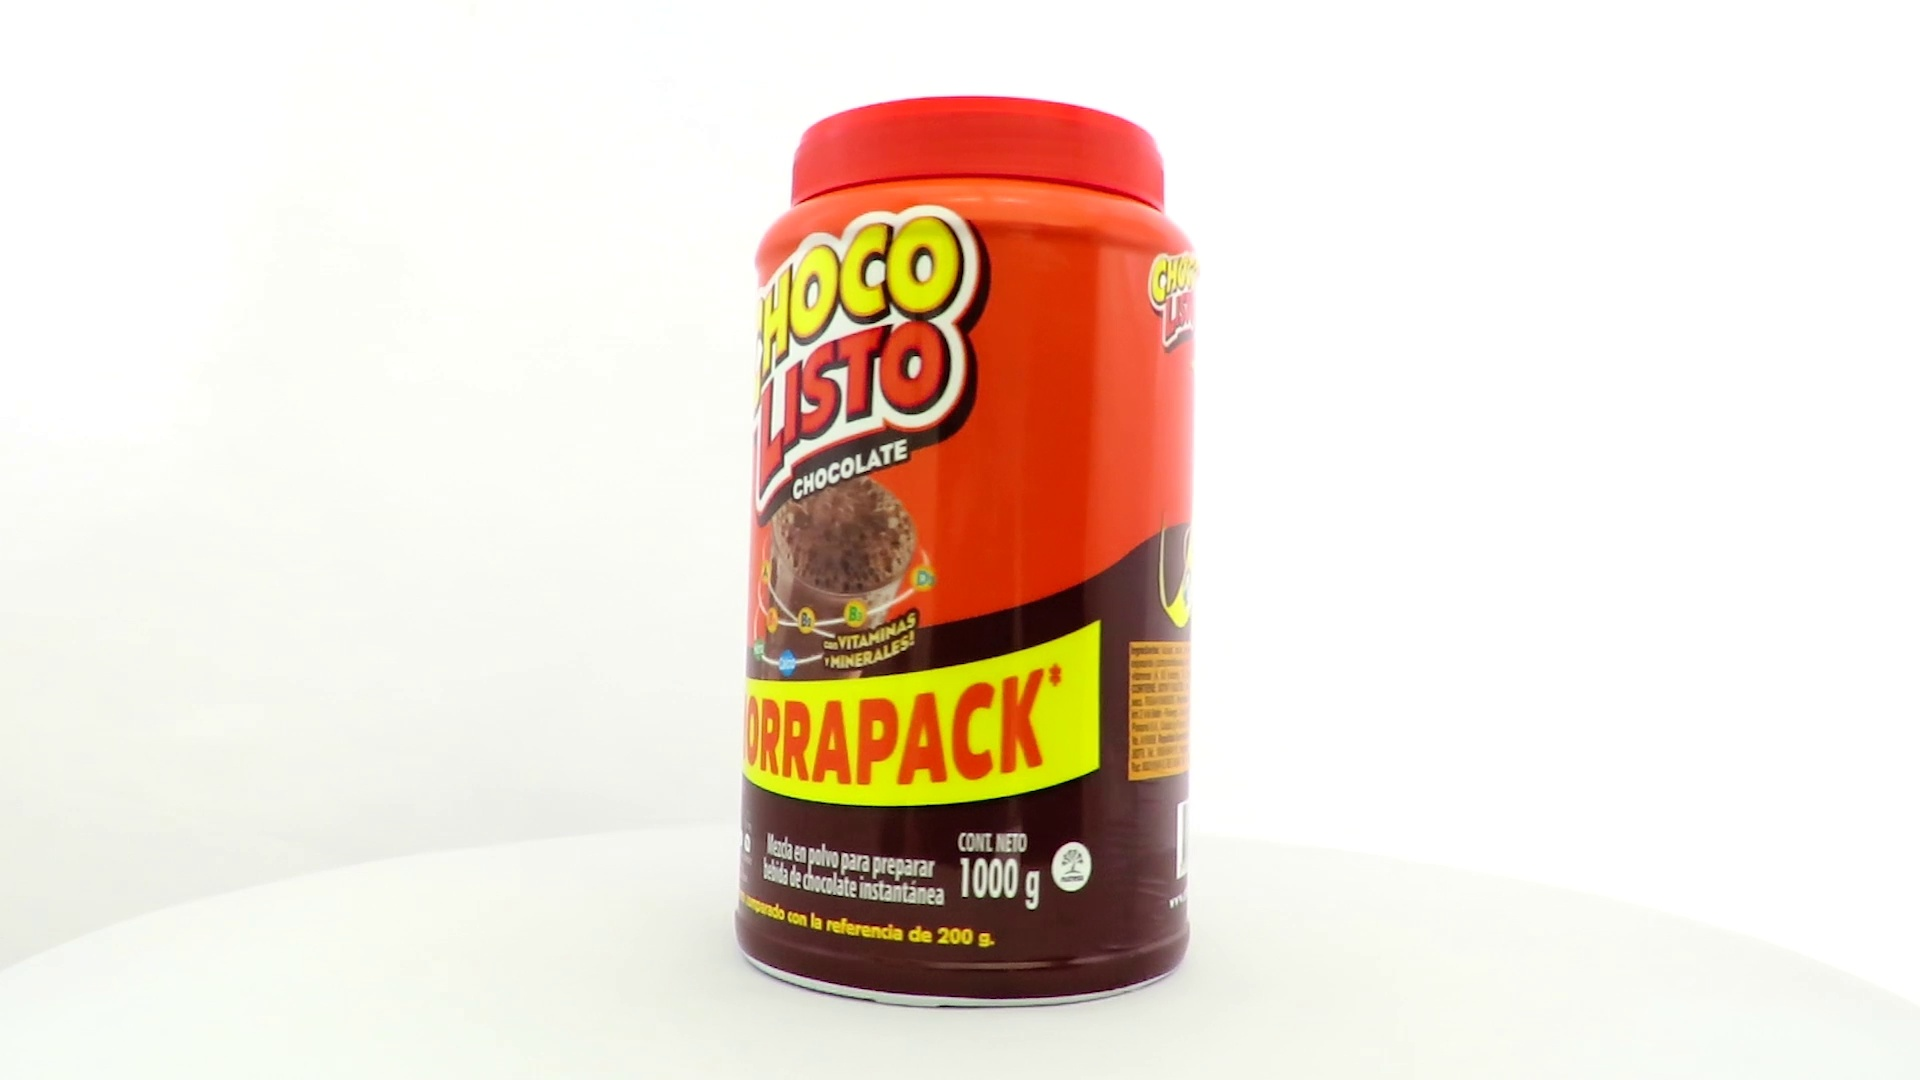COL0170103TRR00100: (729, 91, 1201, 1015)
